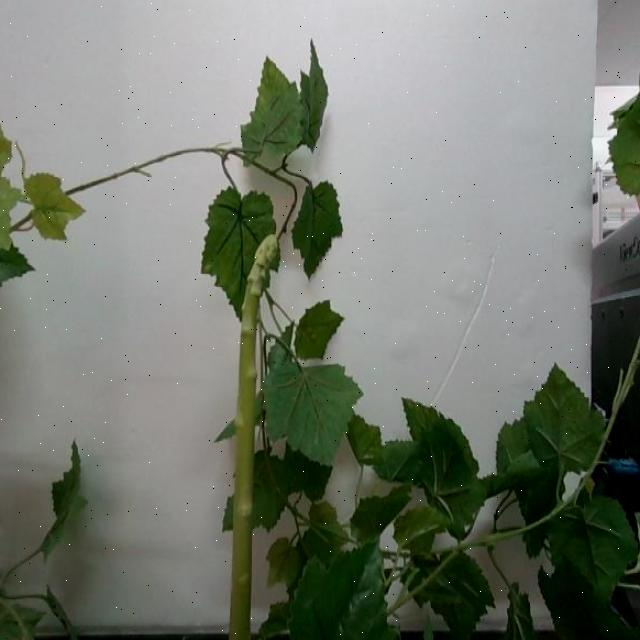aspargus: (227, 231, 279, 640)
